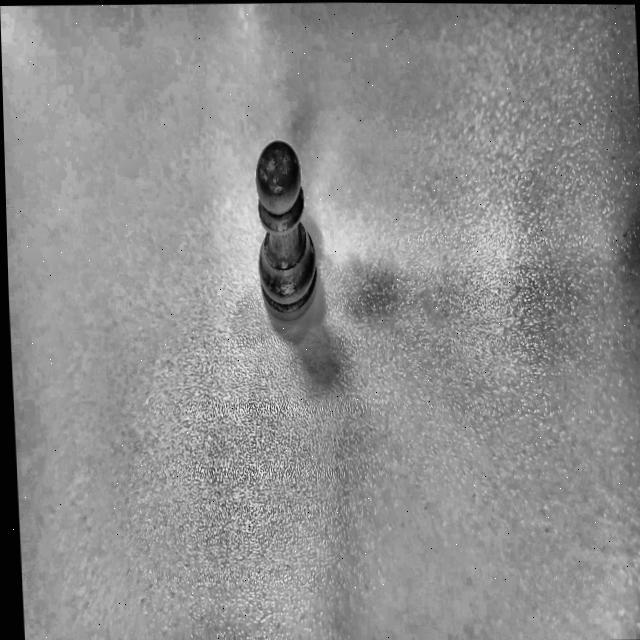black-pawn: (247, 134, 324, 331)
